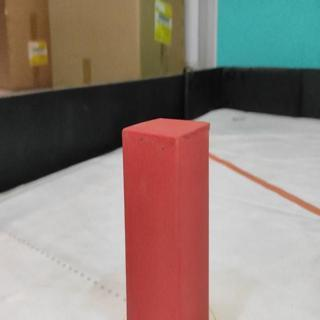redbox: (121, 115, 212, 320)
